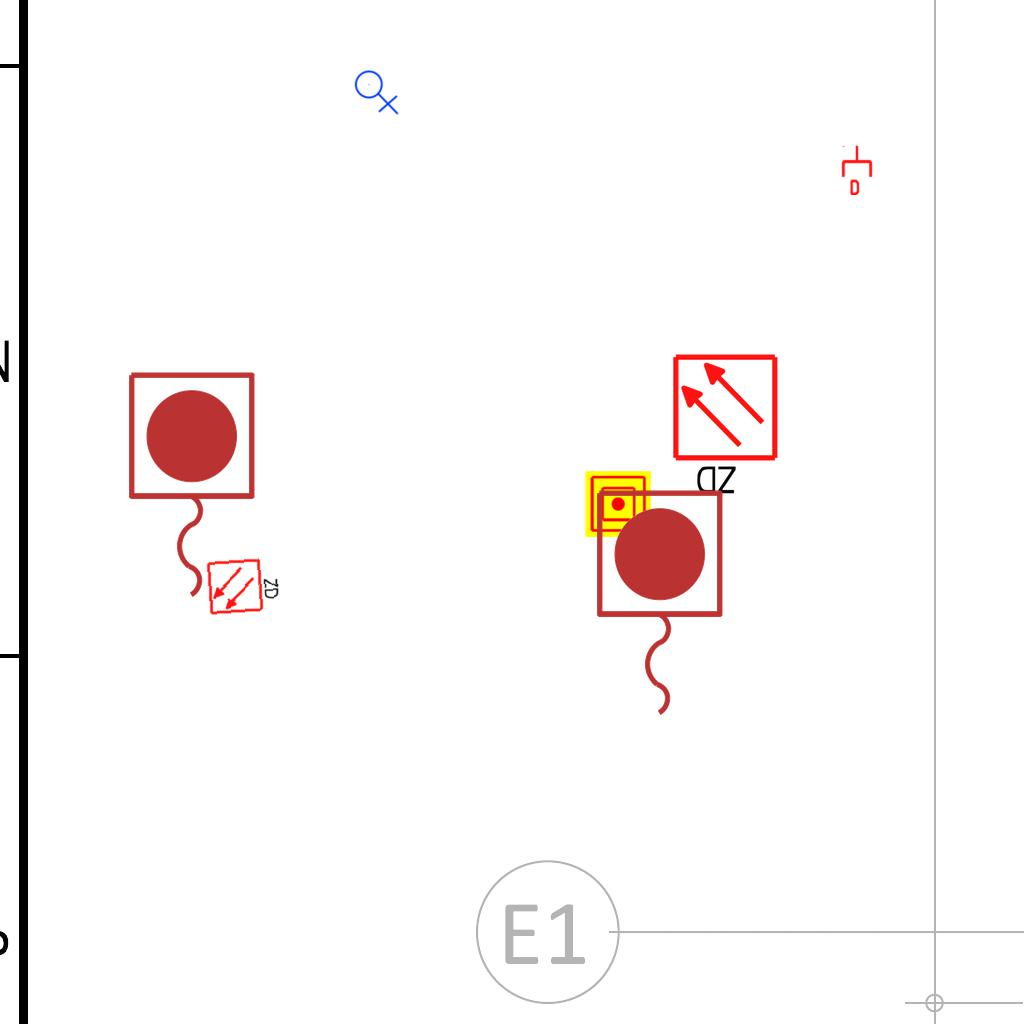Datenanschluss_einfach: (840, 145, 874, 195)
Elektroanschluss_allgemein_230V_Geraeteanschlussdose_230V: (354, 66, 401, 115)
NAM-Nichtautomatischer_Melder: (585, 471, 651, 537)
ZD_Melder_in_Zwischendecke_mit_Revisionsoeffnung_mind_40_x_40_cm: (670, 352, 784, 501), (205, 553, 284, 617)
Zugtaster: (118, 364, 262, 608), (586, 482, 730, 726)
